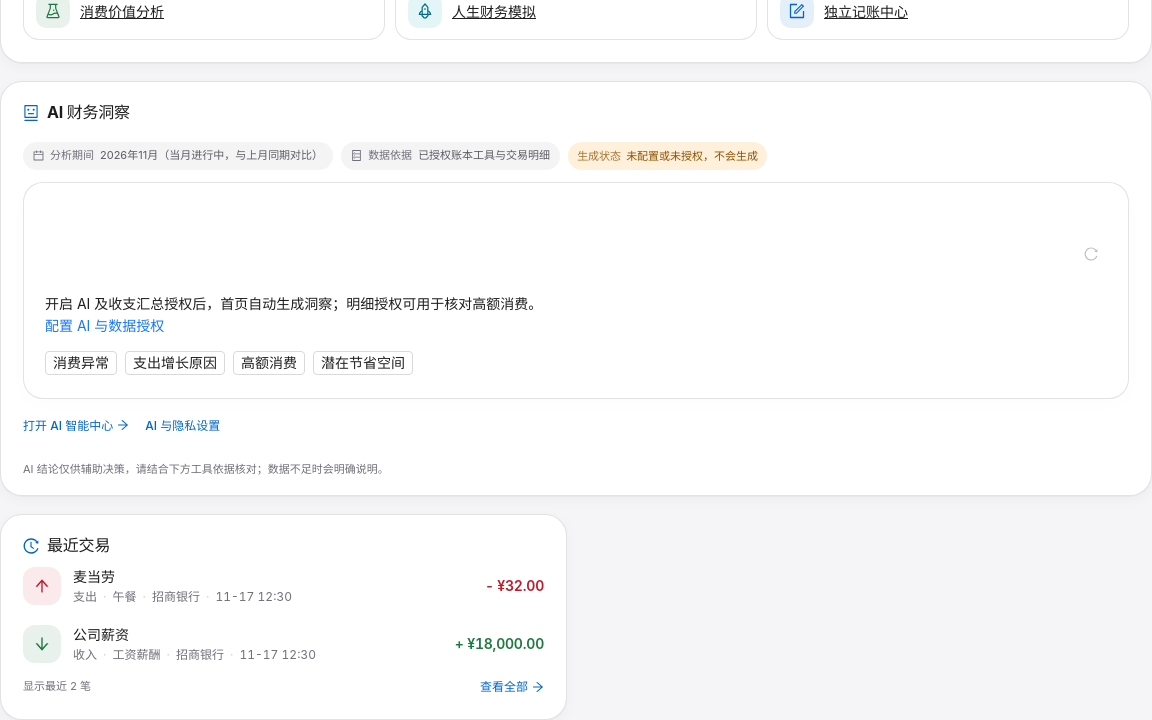
Test: 首页 · Apple 财务控制中心 › links recent entries to the detail drawer route
(page scrolled)
Click the link "公司薪资 收入 · 工资薪酬 · 招商银行 · 11-17 12:30 + ¥18,000.00" at (42, 644), box x1=1 y1=615 x2=566 y2=673
(page scrolled)
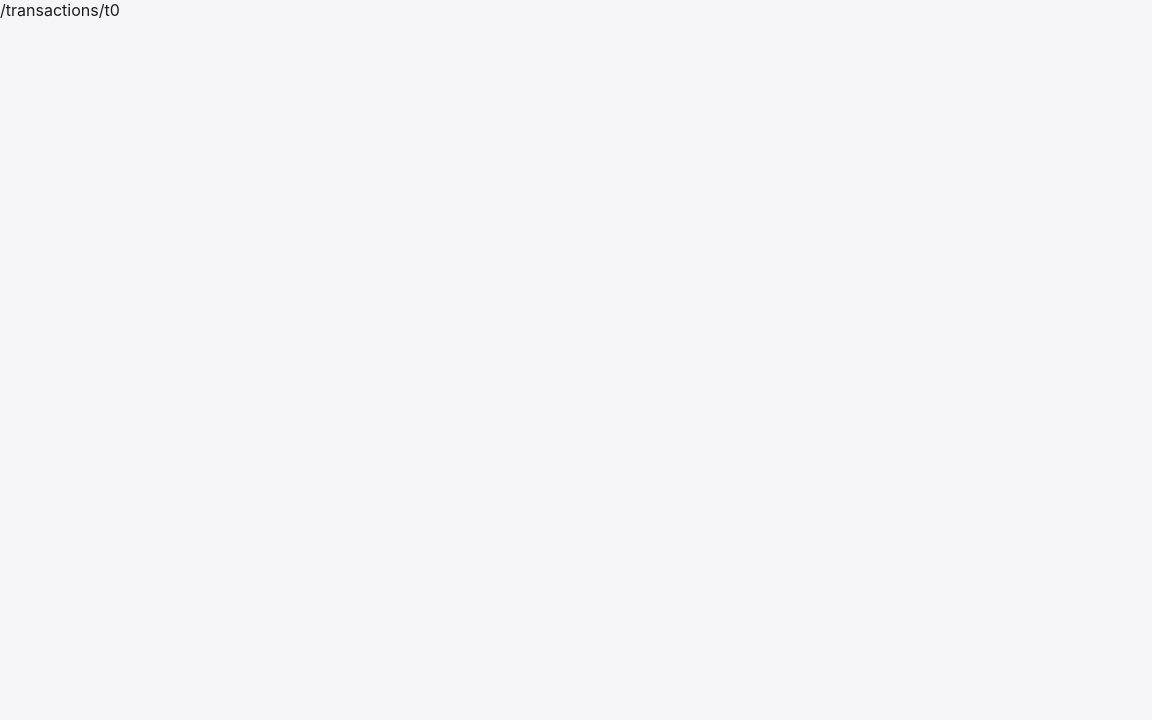
Result: the text with test id "location" reads "/transactions/t0" at x1=0 y1=0 x2=120 y2=20
